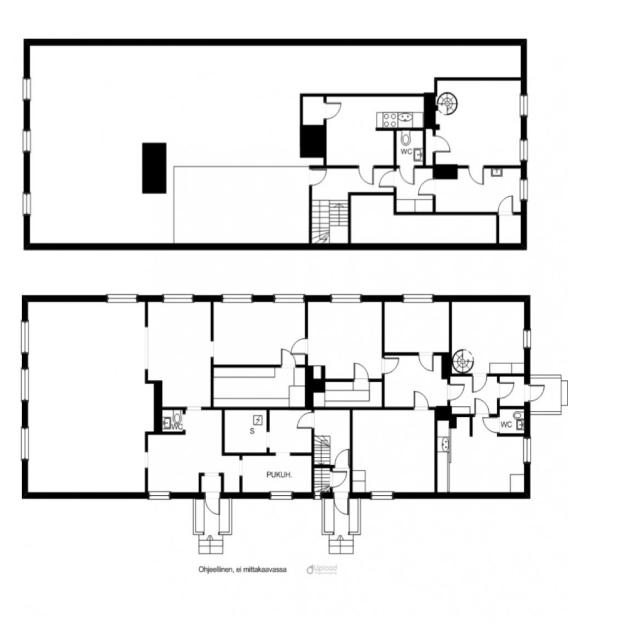door: (286, 410, 316, 446), (442, 379, 468, 404), (429, 132, 454, 156), (203, 489, 223, 516), (403, 172, 426, 195), (410, 386, 432, 410), (294, 410, 318, 432), (416, 350, 437, 374), (351, 359, 372, 383), (523, 382, 547, 403), (332, 446, 352, 471), (379, 354, 401, 376), (322, 99, 344, 121), (278, 346, 298, 370), (306, 166, 328, 187), (398, 163, 418, 186), (469, 372, 489, 395), (287, 336, 310, 356), (332, 492, 351, 516), (376, 168, 398, 188), (496, 378, 516, 400), (466, 164, 486, 186), (357, 163, 376, 186), (329, 468, 349, 489), (479, 415, 500, 435), (472, 396, 491, 418), (416, 178, 437, 196), (497, 193, 514, 214)
window: (324, 290, 367, 306), (396, 290, 438, 306), (156, 290, 198, 306), (100, 290, 142, 306), (268, 290, 308, 306), (17, 316, 32, 358), (216, 290, 256, 305), (142, 322, 152, 378), (365, 488, 398, 503), (145, 489, 176, 503), (19, 426, 31, 462), (19, 365, 30, 404), (267, 488, 297, 502), (20, 75, 33, 104), (522, 436, 534, 466), (21, 127, 33, 155), (518, 92, 530, 119), (518, 137, 530, 163), (518, 177, 530, 202), (522, 327, 534, 352), (22, 190, 32, 217), (311, 491, 325, 502)
zone: (26, 298, 152, 497), (27, 43, 147, 249), (436, 76, 521, 168), (351, 409, 438, 495), (149, 298, 214, 411), (212, 299, 308, 367), (307, 298, 383, 381), (434, 434, 529, 497), (449, 300, 527, 374), (144, 433, 219, 498), (212, 364, 308, 411), (382, 298, 452, 354), (323, 94, 429, 129), (240, 453, 314, 495), (266, 408, 314, 458), (312, 409, 351, 466), (222, 408, 268, 454), (312, 381, 386, 408), (395, 128, 427, 166), (498, 407, 527, 435), (301, 96, 326, 128)
